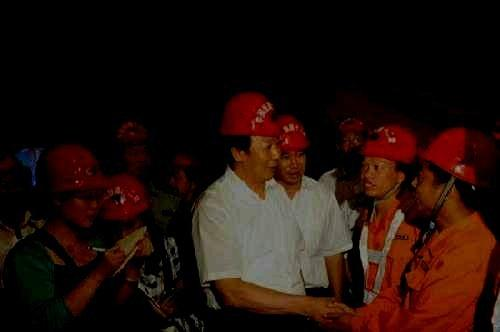helmet: (410, 126, 496, 213), (34, 144, 112, 227), (217, 92, 284, 180), (358, 122, 420, 198), (98, 172, 150, 236), (273, 115, 310, 183), (116, 120, 148, 168), (336, 117, 364, 160)
